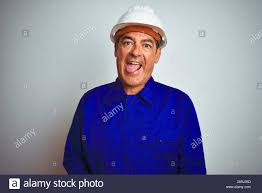Person_wearing_helmet: (110, 2, 171, 49)
